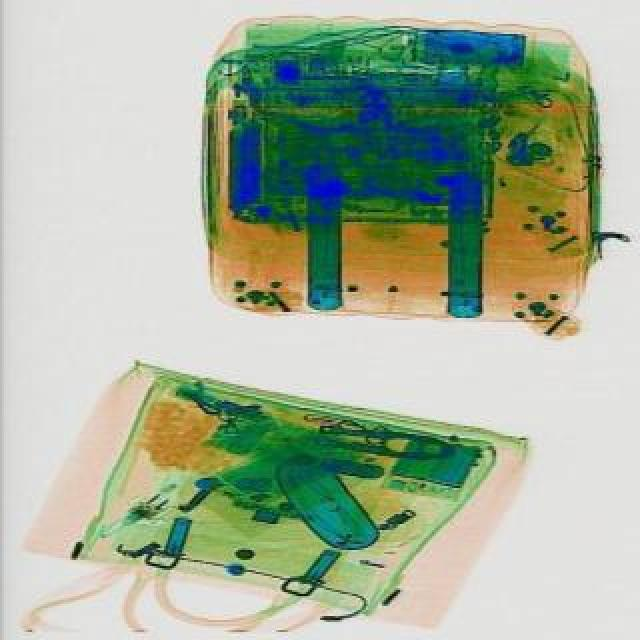wrench: (308, 420, 452, 464)
